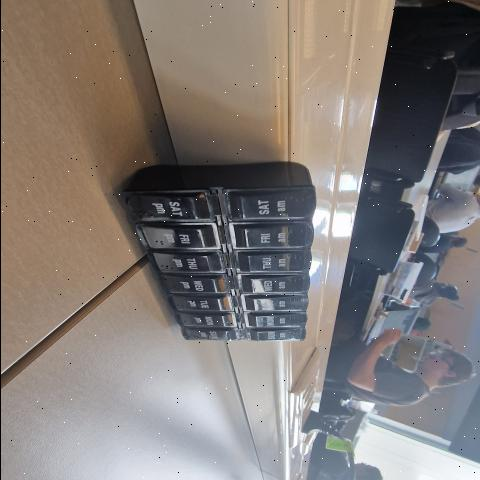PillBox: (117, 141, 325, 368)
